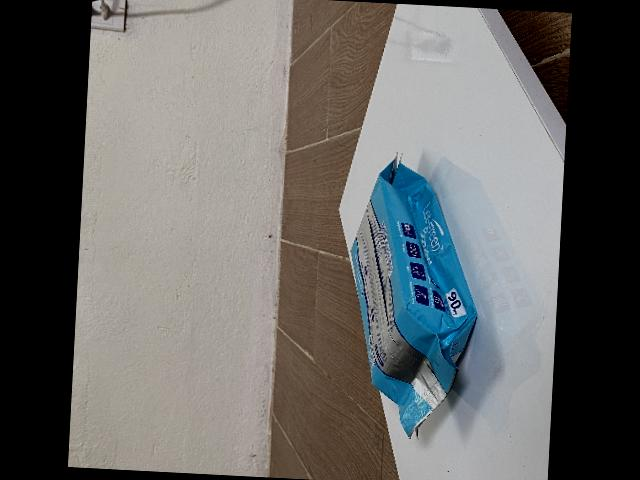Let-green_alcohol_wipes: (350, 156, 479, 441)
